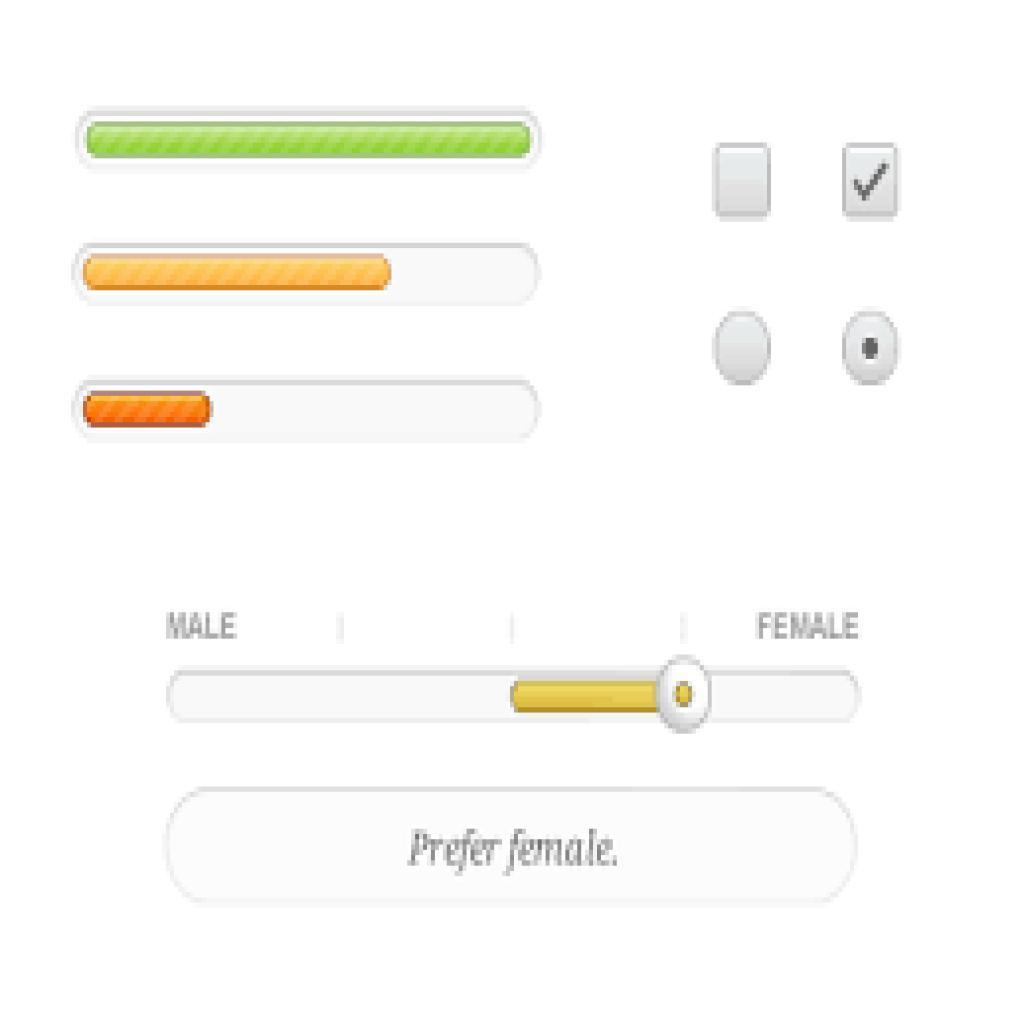button: (167, 787, 856, 900)
checkbox: (717, 144, 774, 223), (844, 145, 901, 220)
radio: (841, 301, 904, 399), (710, 308, 776, 400)
slider: (164, 660, 871, 736)
